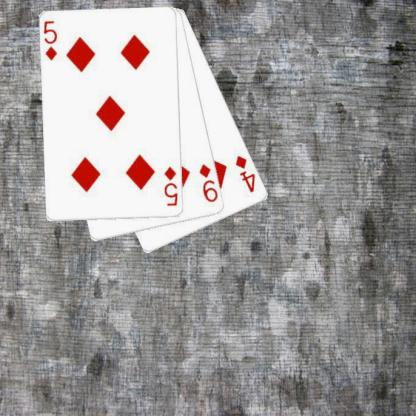4D: (233, 153, 257, 194)
5D: (162, 165, 180, 208), (41, 18, 58, 63)
9D: (196, 161, 219, 204)
